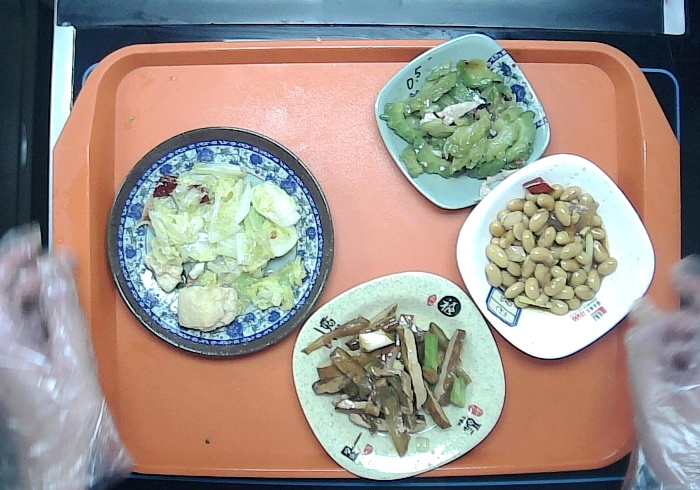NLDX-Bai_Se_Xiao_Fang_Die: (452, 150, 659, 363)
NLDX-Fu_Zi_Fang_Die: (289, 269, 509, 485)
NLDX-Qing_Hua_Xiao_Fang_Die: (370, 30, 554, 213)
NLDX-Qing_Hua_Yuan_Die: (102, 122, 342, 365)
